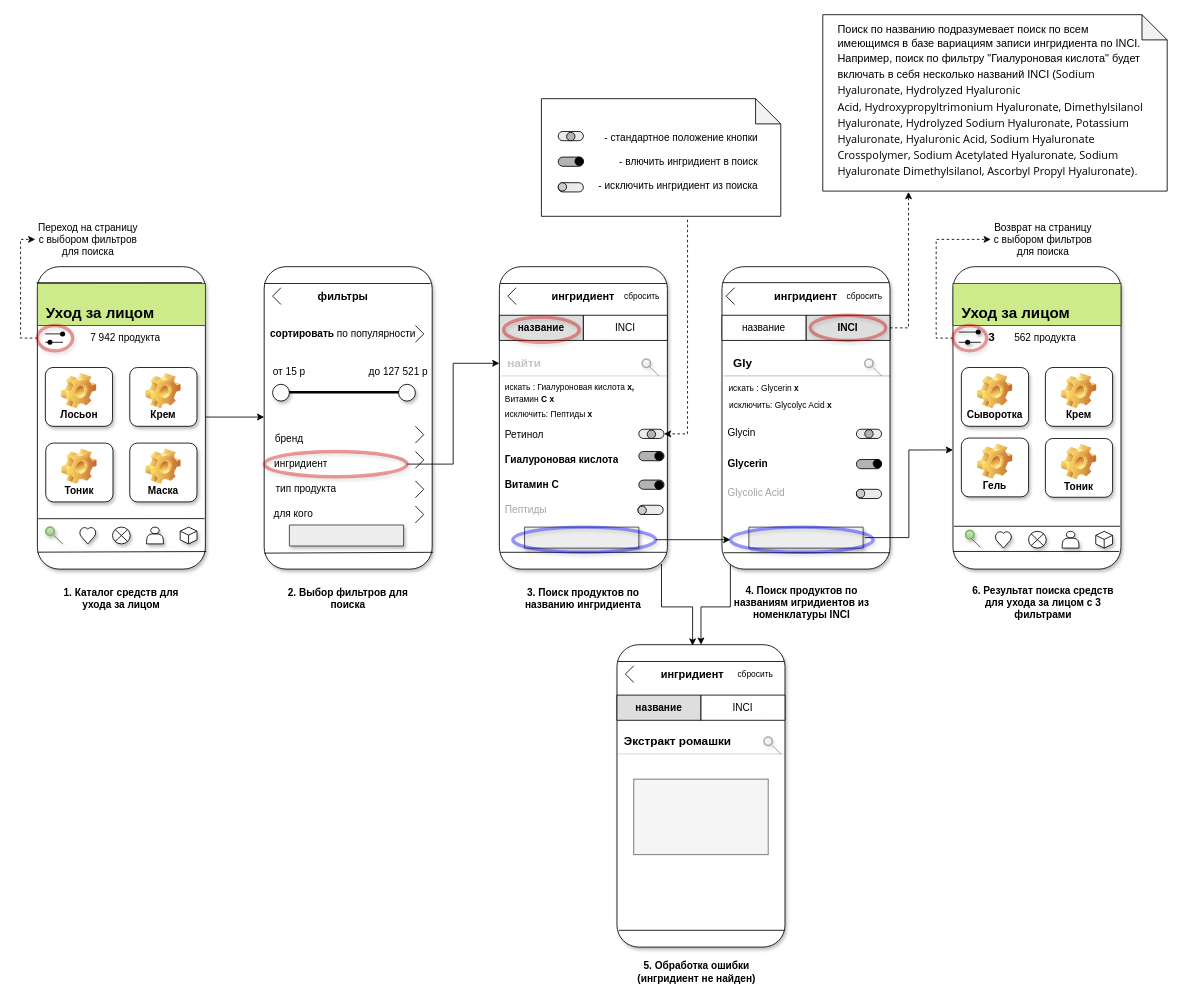
Some shapes in this 1182 by 1004 pixel diagram are drawn without their labels. Each missing label, with the centre of its shape:
"Извините, ничего не найдено! Попробуйте ввести другое название" belongs at point 700,816.
"показать 562 продукта" belongs at point 582,538.
"показать 6986 продукта" belongs at point 806,538.
"показать 7942 продукта" belongs at point 347,536.
